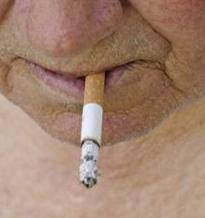smoke: (78, 72, 103, 190)
